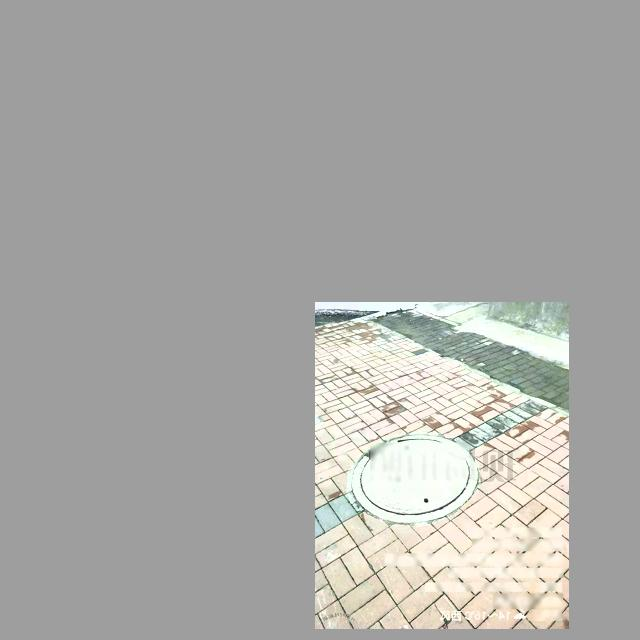circle: (350, 434, 481, 526)
